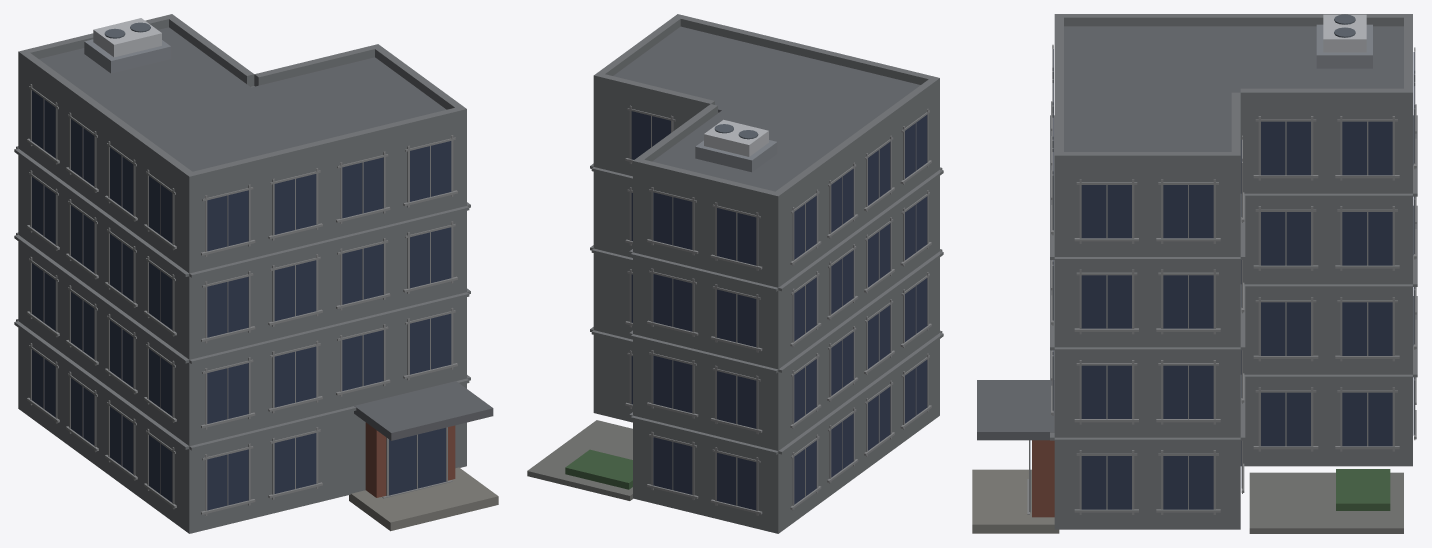
The model's file is civic_corner_04x02_lvl1.glb.
The picture shows the model from 3 angles, left to right: view 1: azimuth 30°, elevation 25°; view 2: azimuth 150°, elevation 25°; view 3: azimuth 270°, elevation 25°; orthographic projection. The views are drawn at different scales.
Visible parts, largest first — view 1: civic_corner_04x02; view 2: civic_corner_04x02; view 3: civic_corner_04x02.
Part boxes in pixels (bbox=[...]): civic_corner_04x02: bbox=[14, 14, 498, 533]; civic_corner_04x02: bbox=[527, 14, 943, 533]; civic_corner_04x02: bbox=[972, 14, 1417, 533].
Bounding box in the file's own units: 0.7746 × 1.02 × 1.
